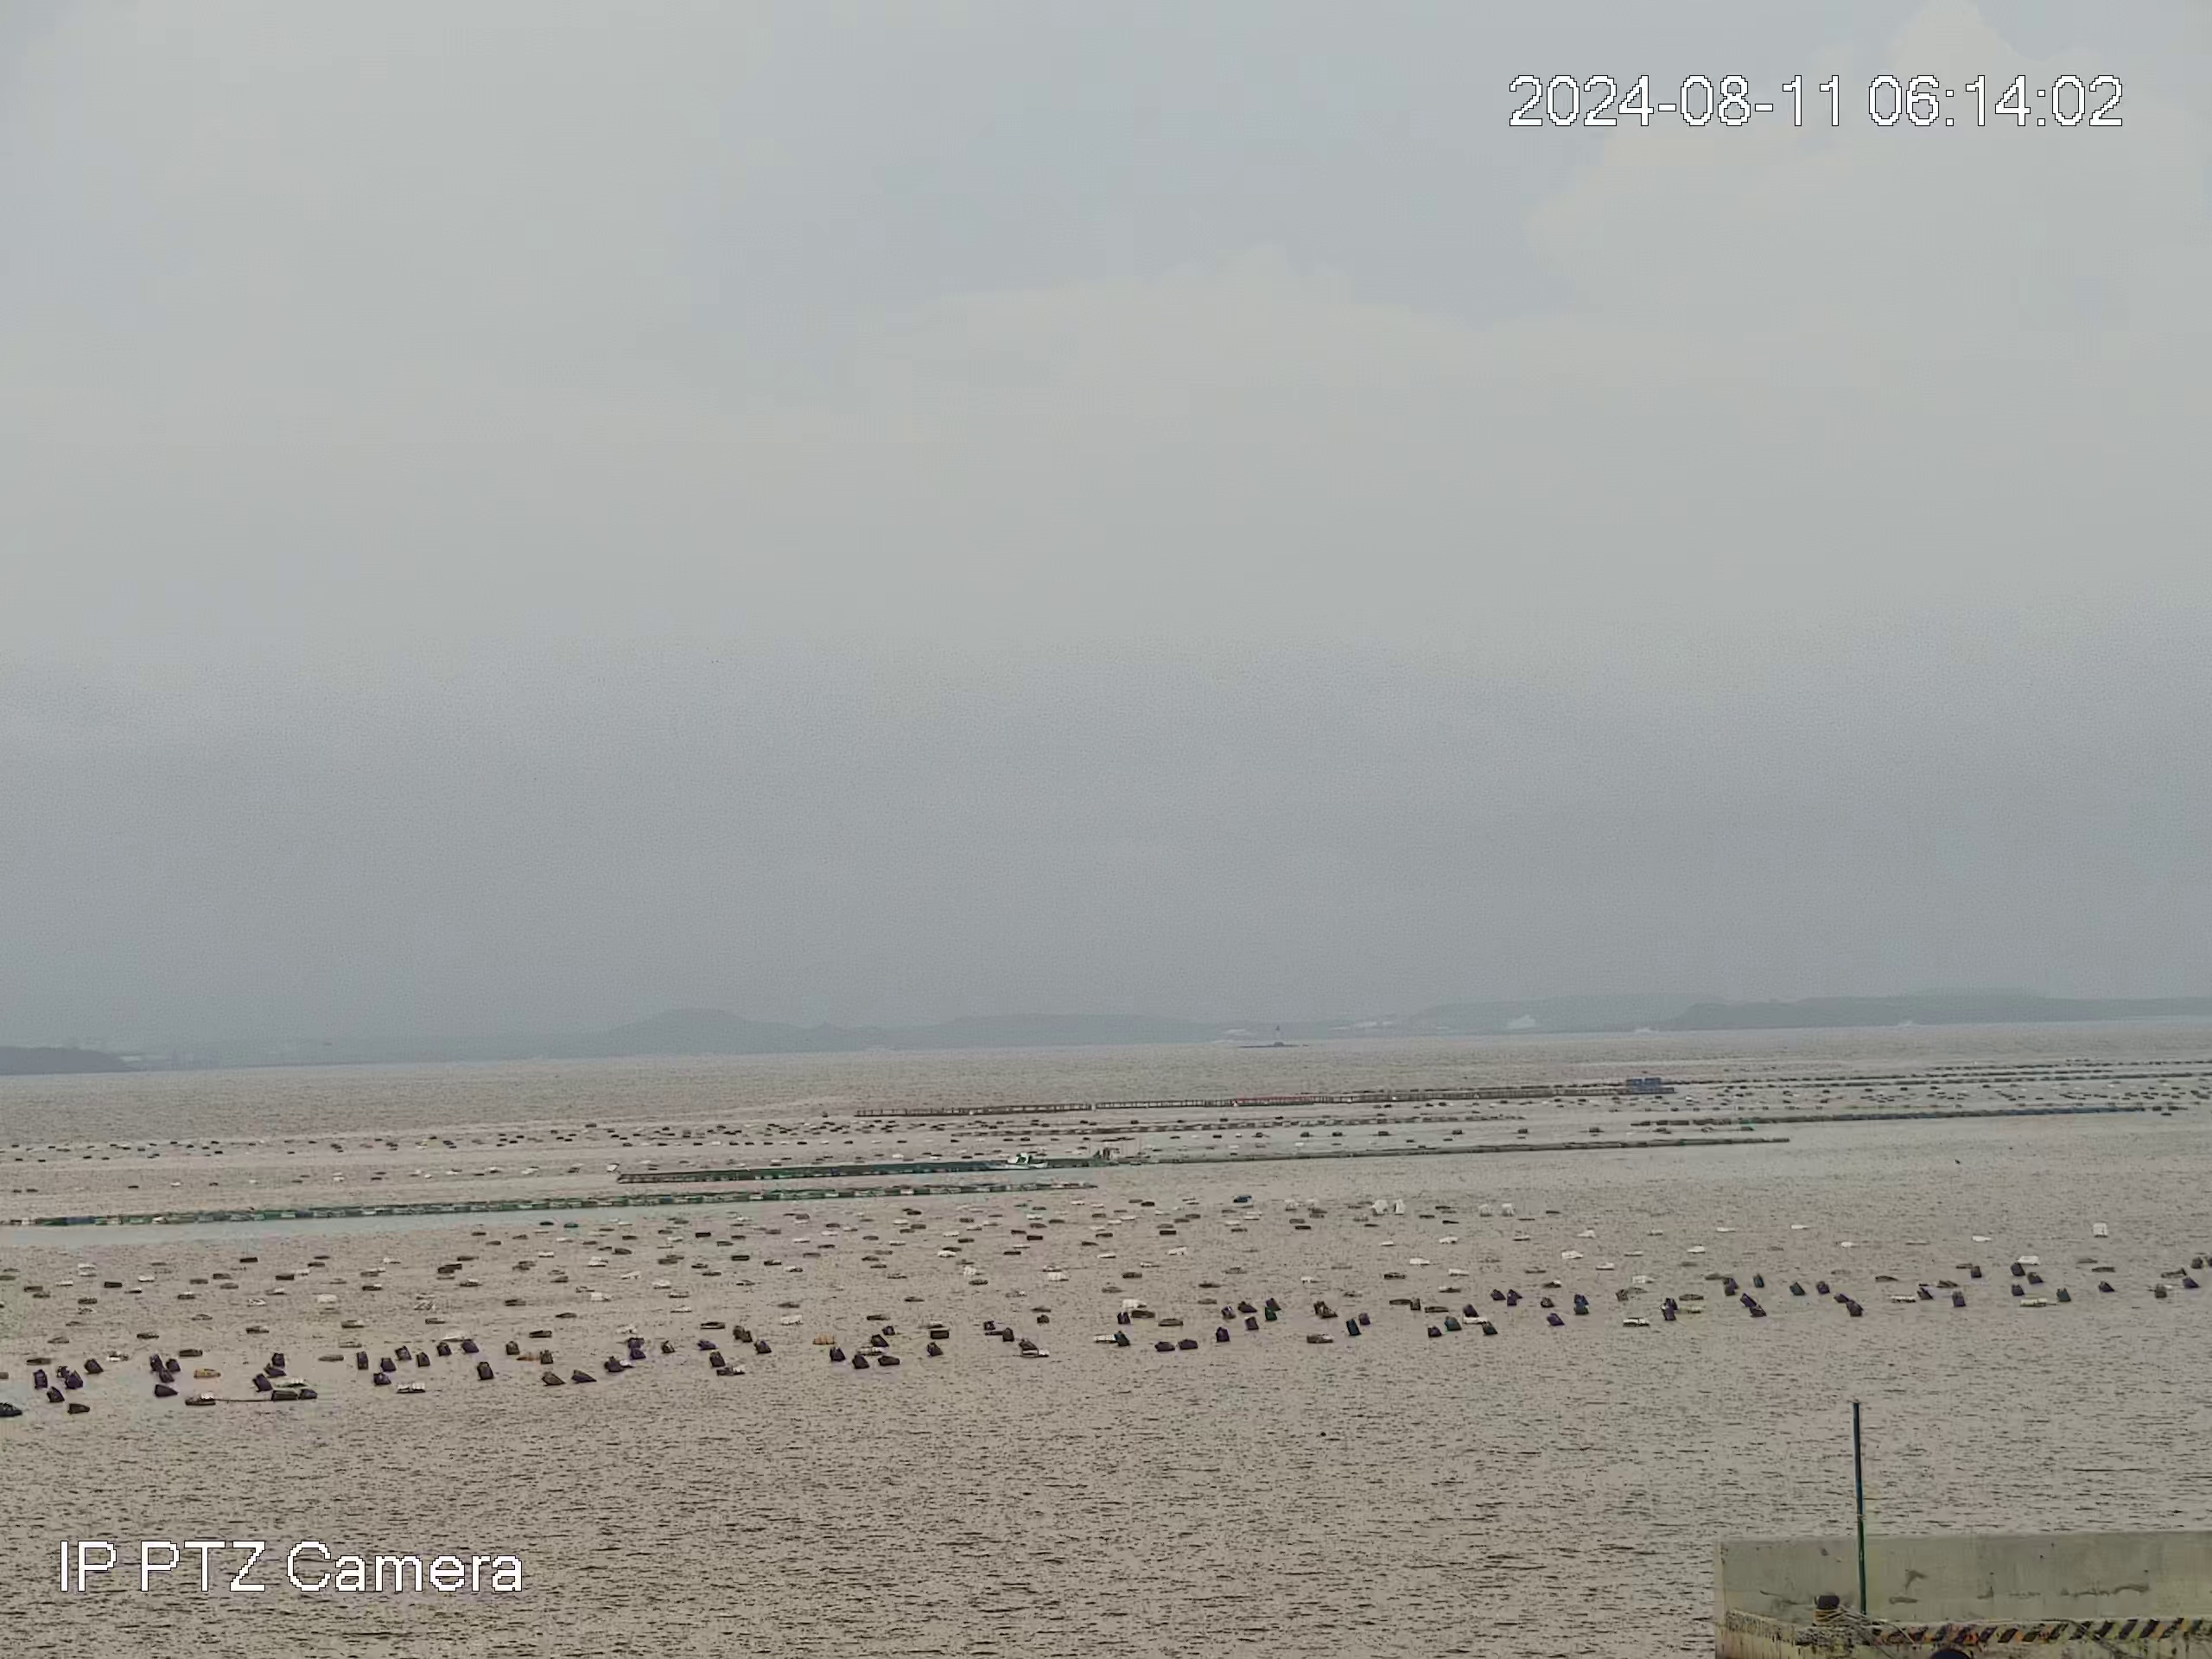boat: (982, 1148, 1052, 1171)
